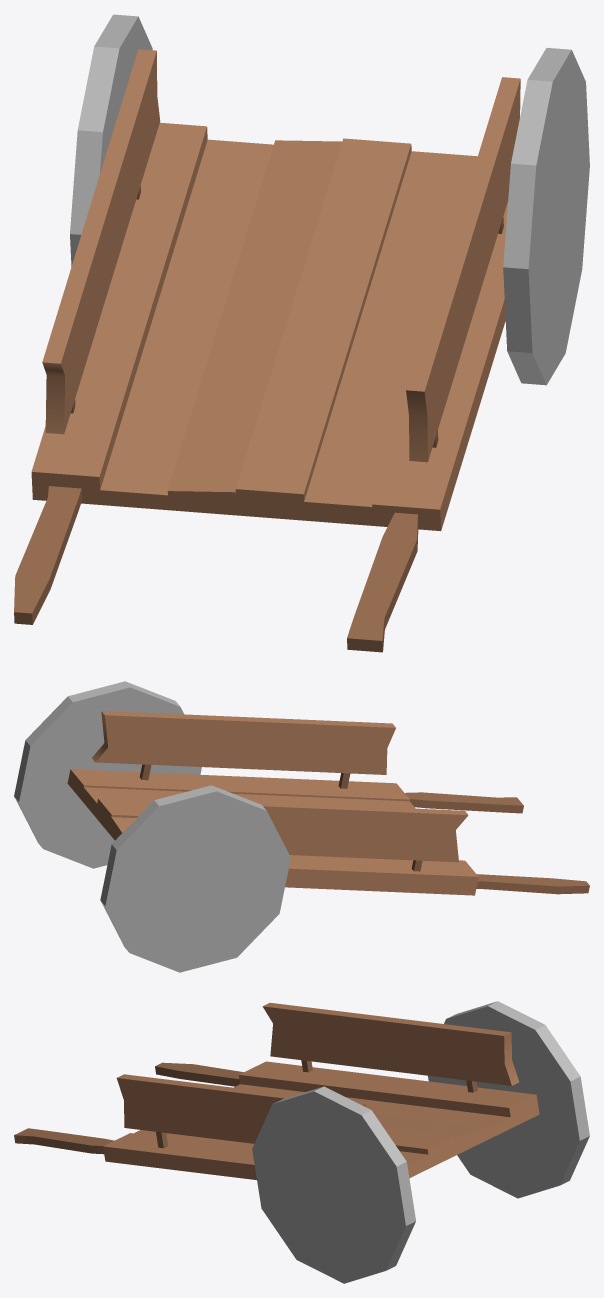
File: Cart.fbx
The picture shows the model from 3 angles, top to bottom: view 1: azimuth 30°, elevation 25°; view 2: azimuth 150°, elevation 25°; view 3: azimuth 270°, elevation 25°; orthographic projection. The views are drawn at different scales.
Visible parts, largest first — view 1: pasted__pCube63, pasted__pCylinder11, pasted__pCube66, pasted__pCube67, pasted__pCylinder10, pasted__pCube65, pasted__pCube64; view 2: pasted__pCylinder10, pasted__pCube63, pasted__pCube67, pasted__pCylinder11, pasted__pCube66, pasted__pCube65, pasted__pCube64; view 3: pasted__pCylinder11, pasted__pCube63, pasted__pCylinder10, pasted__pCube66, pasted__pCube67, pasted__pCube65, pasted__pCube64.
Boxes of the visible parts, box(x1,y1,x2,y2) form: pasted__pCube63: box(31, 122, 507, 530); pasted__pCylinder11: box(503, 47, 589, 385); pasted__pCube66: box(42, 49, 160, 434); pasted__pCube67: box(406, 77, 520, 462); pasted__pCylinder10: box(70, 14, 152, 266); pasted__pCube65: box(347, 512, 418, 652); pasted__pCube64: box(14, 486, 82, 624); pasted__pCylinder10: box(100, 785, 290, 972); pasted__pCube63: box(67, 769, 478, 895); pasted__pCube67: box(92, 711, 395, 774); pasted__pCylinder11: box(14, 681, 201, 868); pasted__pCube66: box(254, 801, 468, 862); pasted__pCube65: box(405, 792, 523, 813); pasted__pCube64: box(476, 874, 589, 894); pasted__pCylinder11: box(252, 1086, 415, 1283); pasted__pCube63: box(103, 1061, 539, 1179); pasted__pCylinder10: box(428, 1001, 589, 1198); pasted__pCube66: box(262, 1002, 518, 1085); pasted__pCube67: box(116, 1074, 365, 1143); pasted__pCube65: box(14, 1128, 114, 1154); pasted__pCube64: box(155, 1062, 243, 1086).
Size of the model in its own units: 256 by 94.43 by 271.
